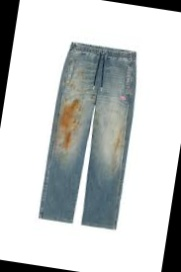earth: (55, 97, 81, 151)
